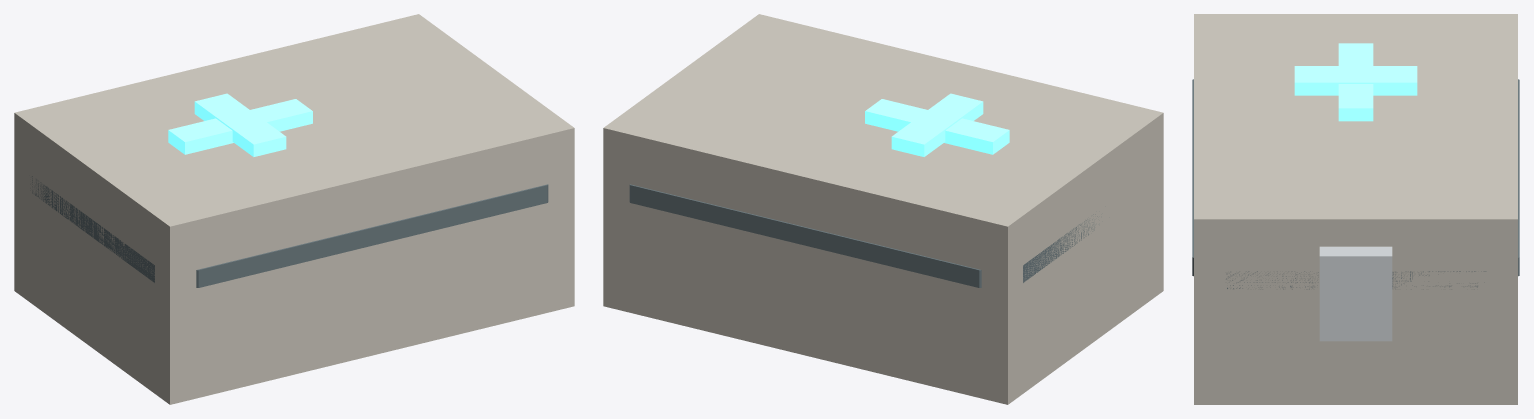
File: prop_recovery_kit_v4_ShadowProxy.glb
3 views of the same model, side by side, from view 1: azimuth 30°, elevation 25°; view 2: azimuth 150°, elevation 25°; view 3: azimuth 270°, elevation 25° (orthographic). The views are drawn at different scales.
Visible parts, largest first — view 1: prop_recovery_kit_v4_ShadowProxy / Primary assembly; view 2: prop_recovery_kit_v4_ShadowProxy / Primary assembly; view 3: prop_recovery_kit_v4_ShadowProxy / Primary assembly.
Boxes of the visible parts, x1,y1,x2,y2 form: prop_recovery_kit_v4_ShadowProxy / Primary assembly: (14,14,574,404); prop_recovery_kit_v4_ShadowProxy / Primary assembly: (603,14,1163,404); prop_recovery_kit_v4_ShadowProxy / Primary assembly: (1192,14,1519,404).
Bounding box in the file's own units: 0.5975 × 0.2595 × 0.384.
